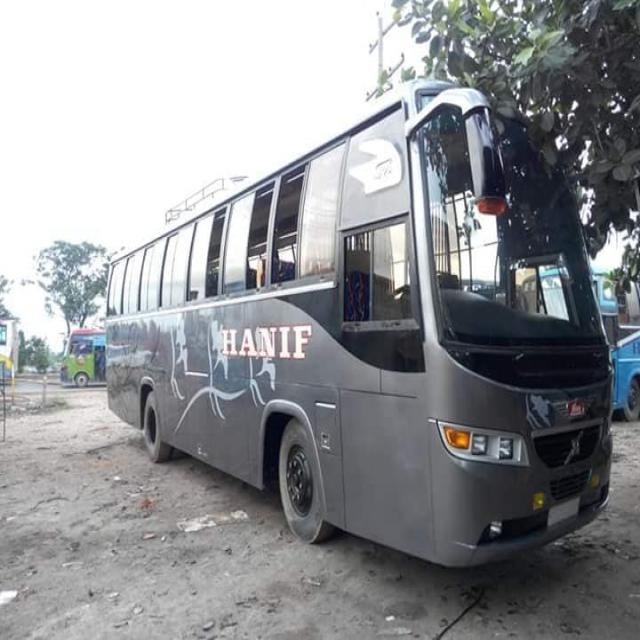bus: (104, 78, 615, 570)
